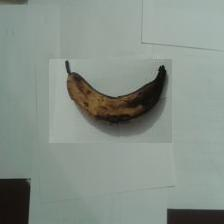Banana Rotten: (49, 59, 172, 143)
